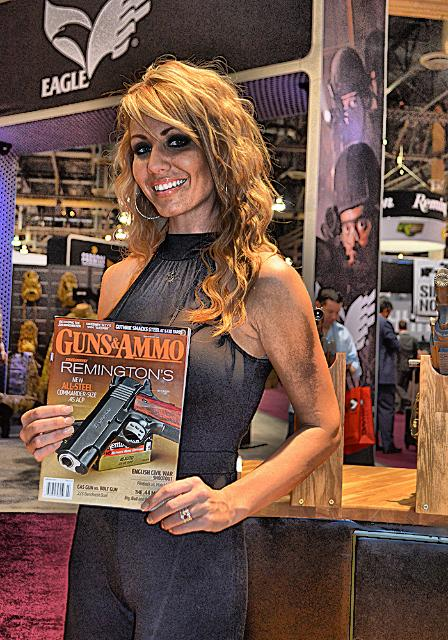pistol: (54, 376, 152, 479)
